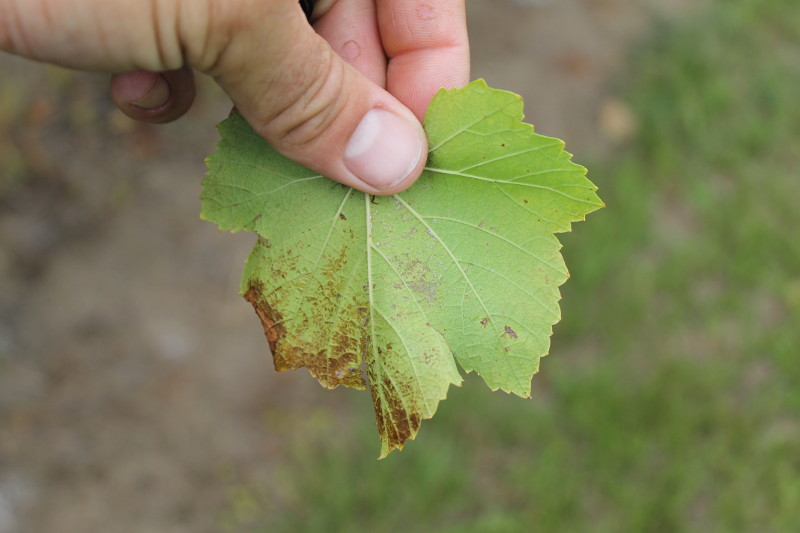downy: (269, 240, 430, 350), (379, 356, 420, 445), (322, 351, 375, 388), (256, 276, 272, 330)
